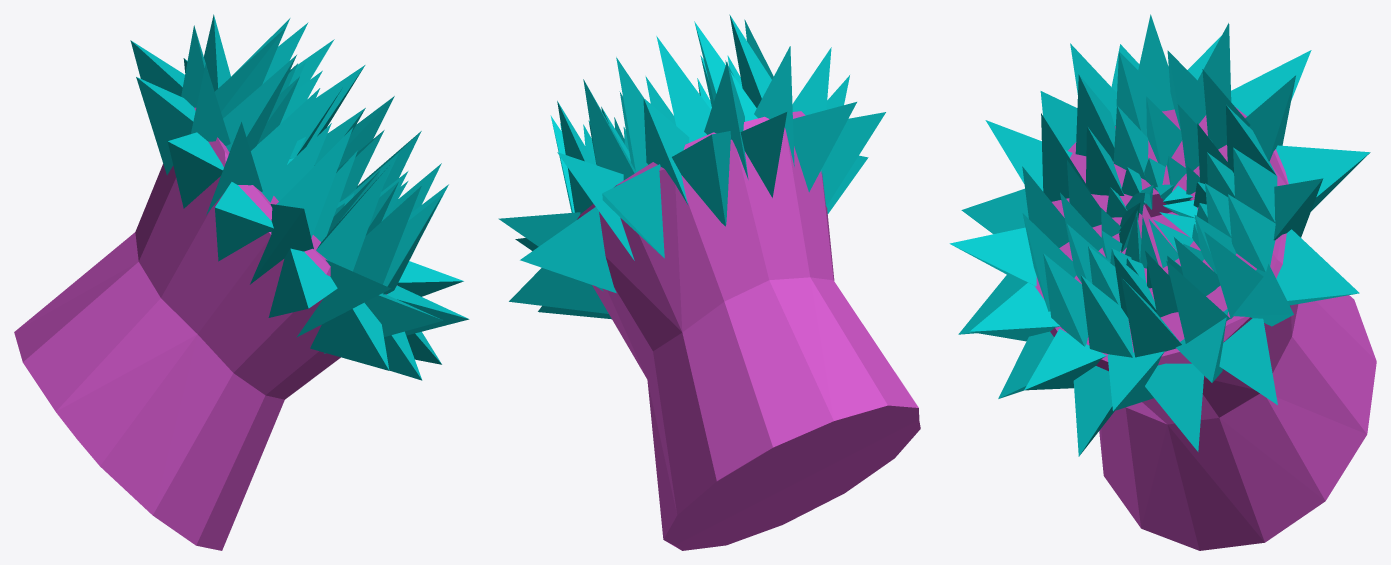
Rendered from anenomePlant.fbx.
3 renders of one model, left to right at view 1: azimuth 30°, elevation 25°; view 2: azimuth 150°, elevation 25°; view 3: azimuth 270°, elevation 25°, orthographic. The views are drawn at different scales.
Visible parts, largest first — view 1: 1anenomePlant; view 2: 1anenomePlant; view 3: 1anenomePlant.
Boxes of the visible parts, bbox=[...] form: 1anenomePlant: bbox=[14, 14, 469, 550]; 1anenomePlant: bbox=[498, 14, 920, 550]; 1anenomePlant: bbox=[949, 14, 1376, 550].
Bounding box in the file's own units: 10.2 × 12.66 × 9.34.
